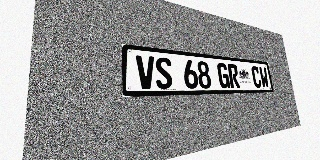6: (183, 59, 199, 89)
8: (196, 61, 212, 88)
C: (251, 66, 262, 88)
G: (217, 63, 230, 88)
R: (227, 64, 240, 88)
S: (155, 57, 173, 89)
V: (136, 55, 156, 89)
W: (259, 67, 269, 88)
